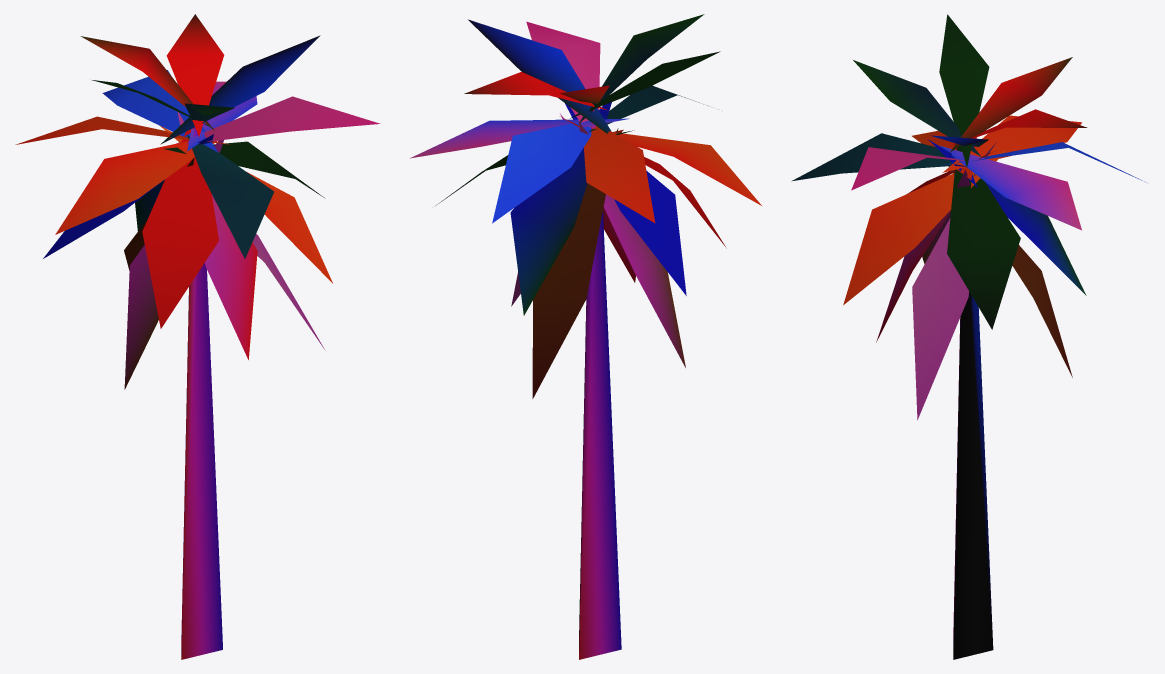
The model's file is tree.fbx.
The picture shows the model from 3 angles, left to right: view 1: azimuth 30°, elevation 25°; view 2: azimuth 150°, elevation 25°; view 3: azimuth 270°, elevation 25°; orthographic projection. The views are drawn at different scales.
Visible parts, largest first — view 1: tree; view 2: tree; view 3: tree.
Part boxes in pixels (x1,y1,x2,y2): tree: (15,14,380,659); tree: (410,14,761,659); tree: (791,14,1145,659).
Bounding box in the file's own units: 0.6905 × 1.34 × 0.7488.
